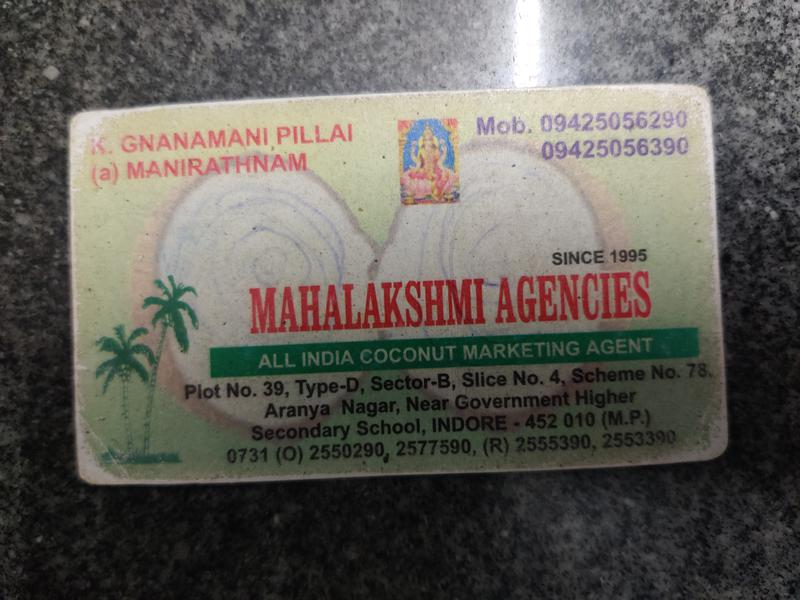card: (66, 77, 731, 490)
